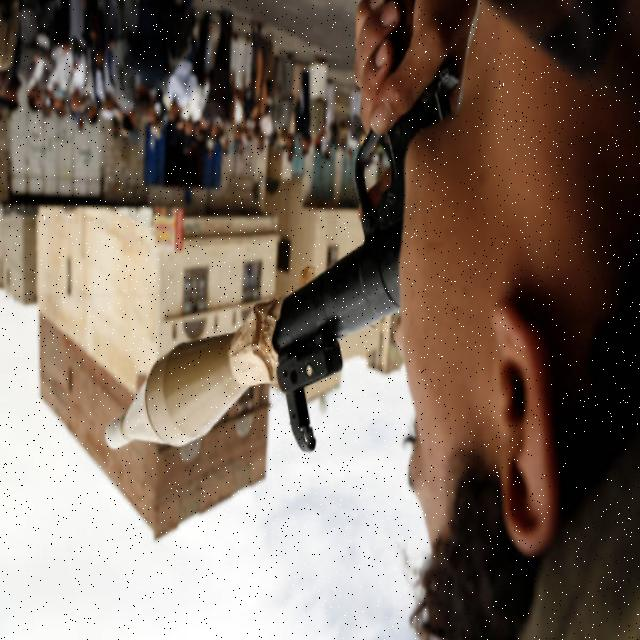bazooka: (95, 12, 462, 466)
